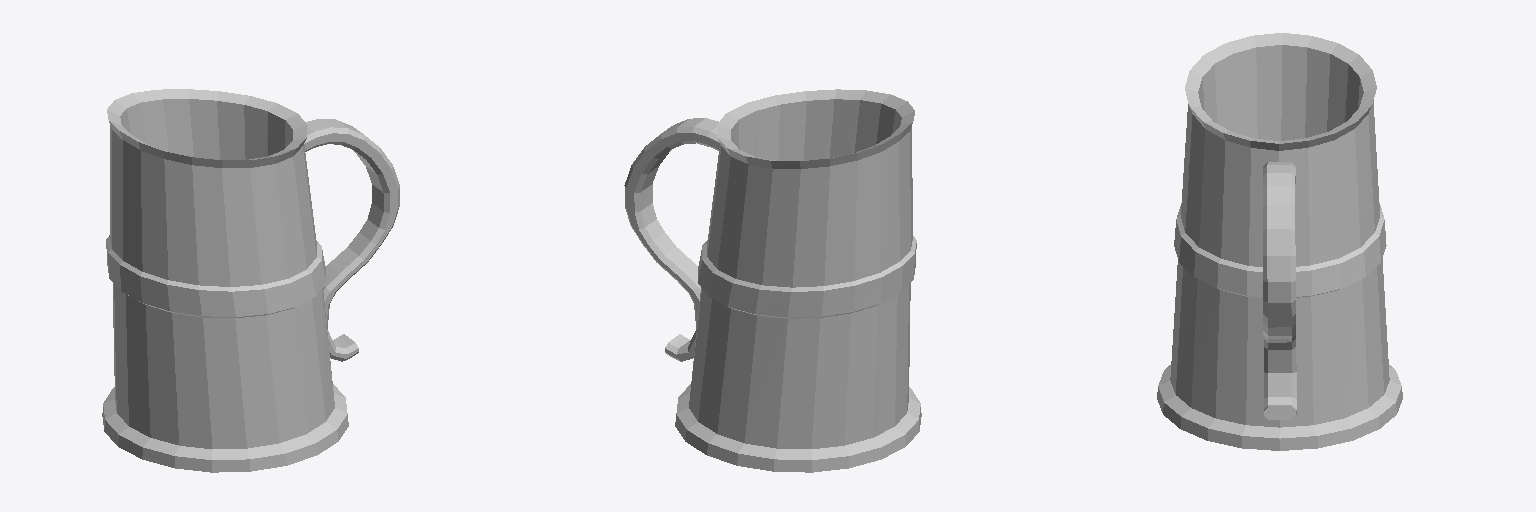
File: Tankard_Banquet_geo.obj
The picture shows the model from 3 angles: view 1: azimuth 30°, elevation 25°; view 2: azimuth 150°, elevation 25°; view 3: azimuth 270°, elevation 25°; orthographic projection.
Visible parts, largest first — view 1: REDO:Tankard; view 2: REDO:Tankard; view 3: REDO:Tankard.
Boxes of the visible parts, <box> form: REDO:Tankard: <box>102,89,399,472</box>; REDO:Tankard: <box>624,89,921,472</box>; REDO:Tankard: <box>1157,33,1402,450</box>.
Size of the model in its own units: 4.42 by 4.82 by 3.42.